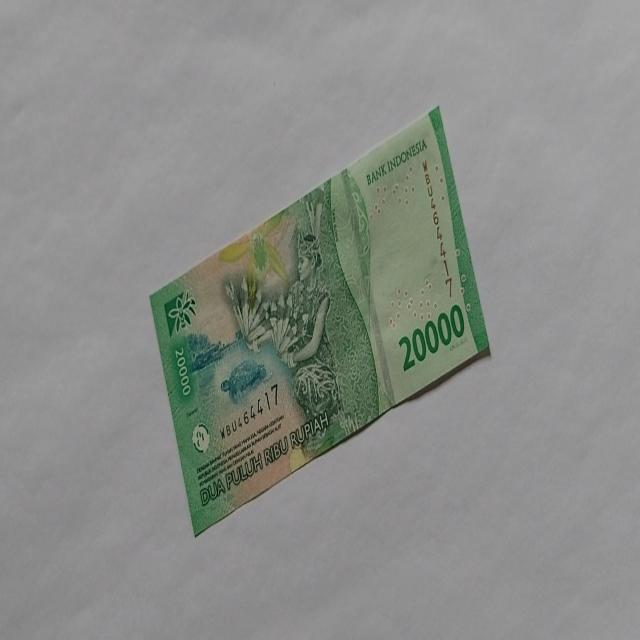dua puluh ribu rupiah: (148, 104, 491, 536), (397, 302, 465, 373)
